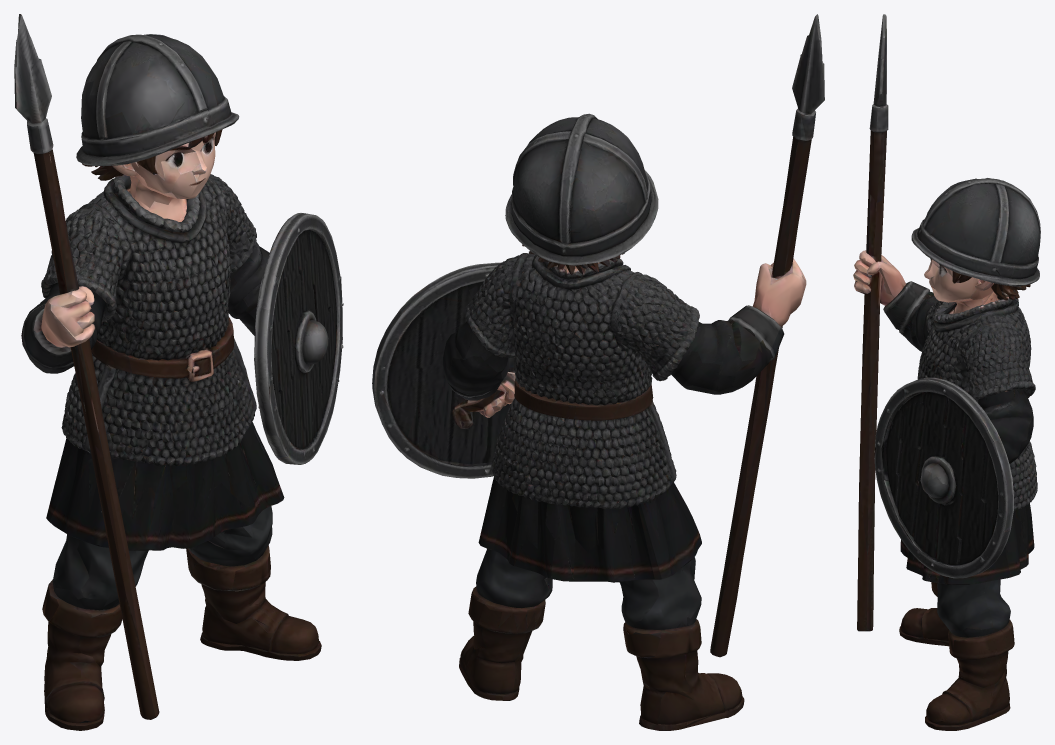
File: recruit_dark.glb
3 views of the same model, side by side, from view 1: azimuth 30°, elevation 25°; view 2: azimuth 150°, elevation 25°; view 3: azimuth 270°, elevation 25° (orthographic). The views are drawn at different scales.
Size of the model in its own units: 1.08 by 1.9 by 0.5501.
1 material, 1 textured.
